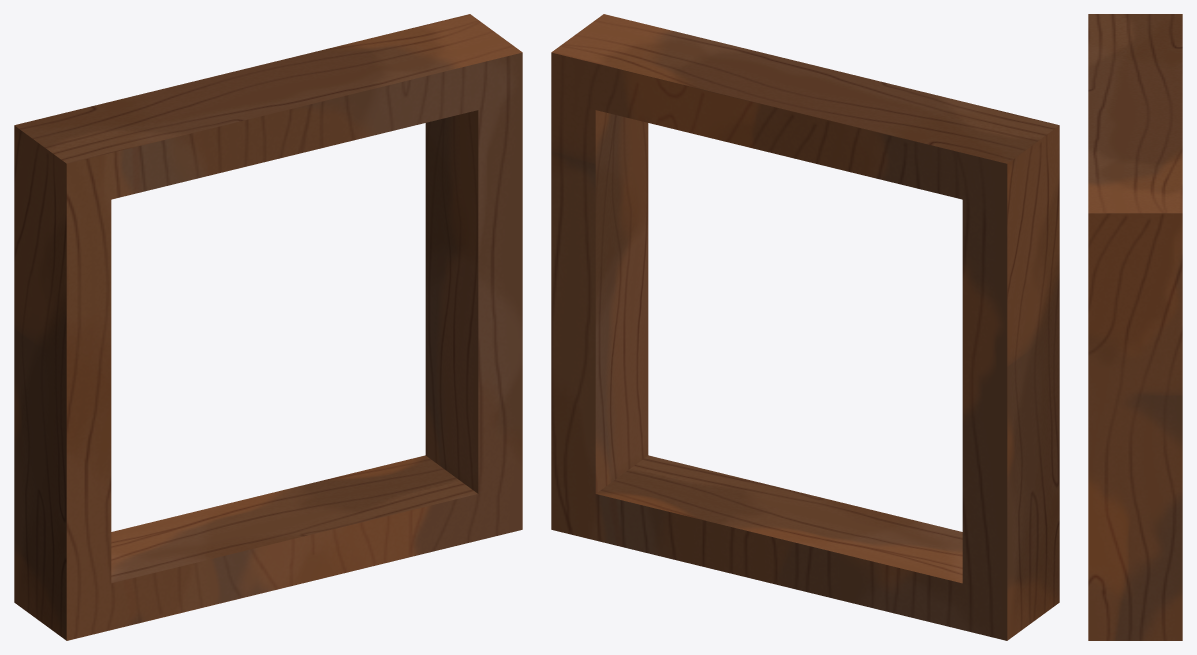
Rendered from Window Frame.fbx.
The picture shows the model from 3 angles, left to right: view 1: azimuth 30°, elevation 25°; view 2: azimuth 150°, elevation 25°; view 3: azimuth 270°, elevation 25°; orthographic projection. The views are drawn at different scales.
Visible parts, largest first — view 1: Window Frame; view 2: Window Frame; view 3: Window Frame.
Part boxes in pixels (x1=…): Window Frame: x1=14, y1=14, x2=522, y2=640; Window Frame: x1=551, y1=14, x2=1059, y2=640; Window Frame: x1=1088, y1=14, x2=1182, y2=640.
Size of the model in its own units: 40 by 40 by 8.
